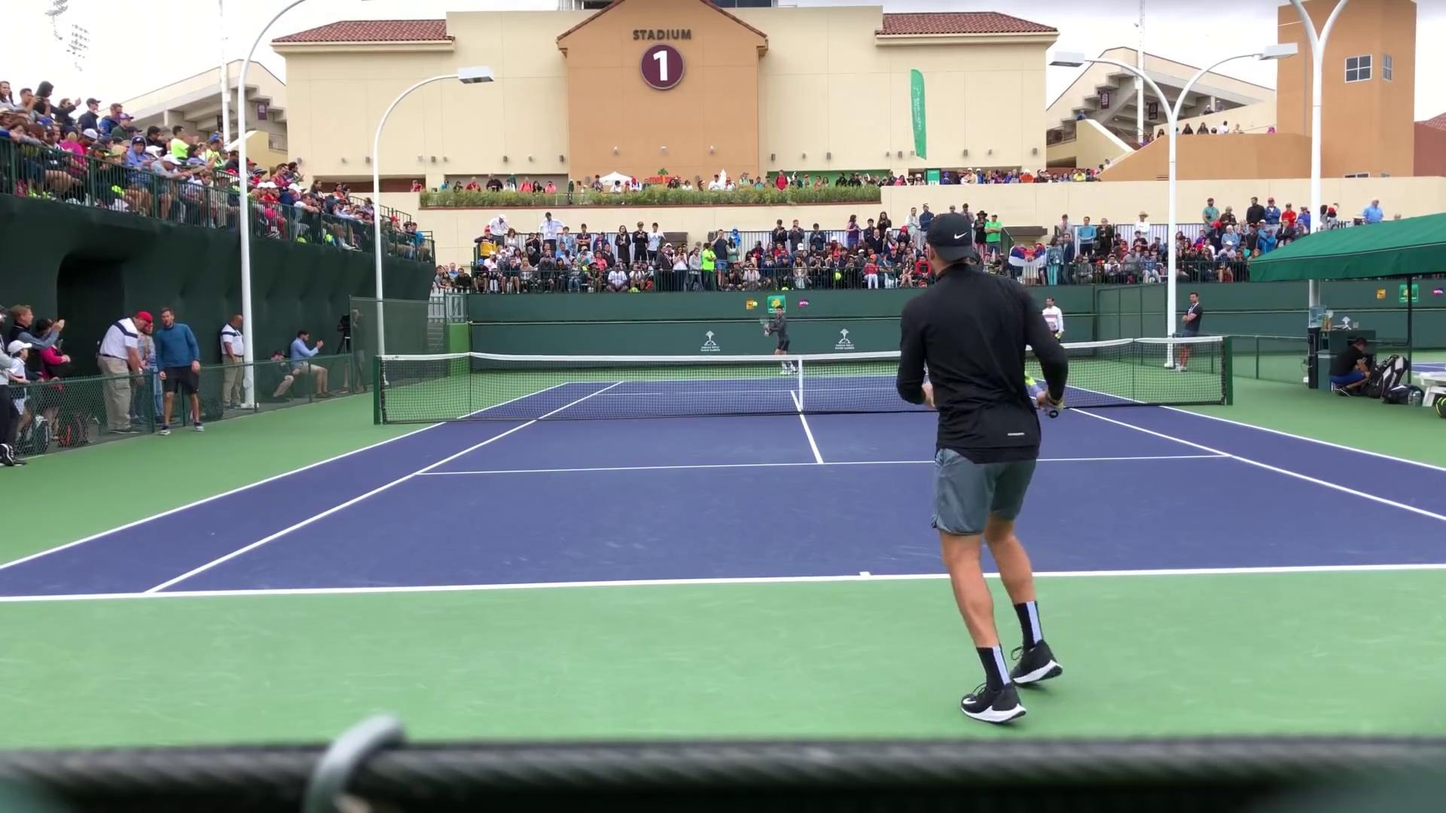ball: (751, 302, 758, 308)
